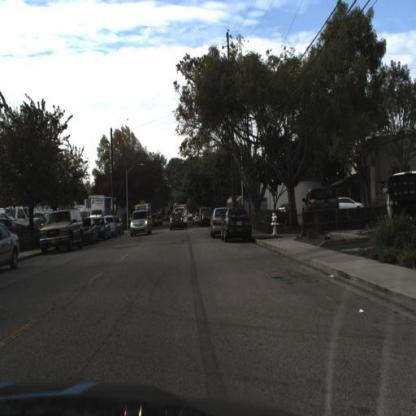car: (298, 177, 343, 238), (37, 207, 86, 260), (220, 199, 255, 250), (300, 188, 341, 220), (1, 220, 22, 276), (129, 205, 157, 245), (338, 187, 368, 216), (208, 207, 226, 247), (209, 205, 225, 241), (82, 215, 100, 246), (95, 217, 113, 246), (168, 208, 186, 234), (275, 196, 295, 219), (82, 214, 94, 247)
